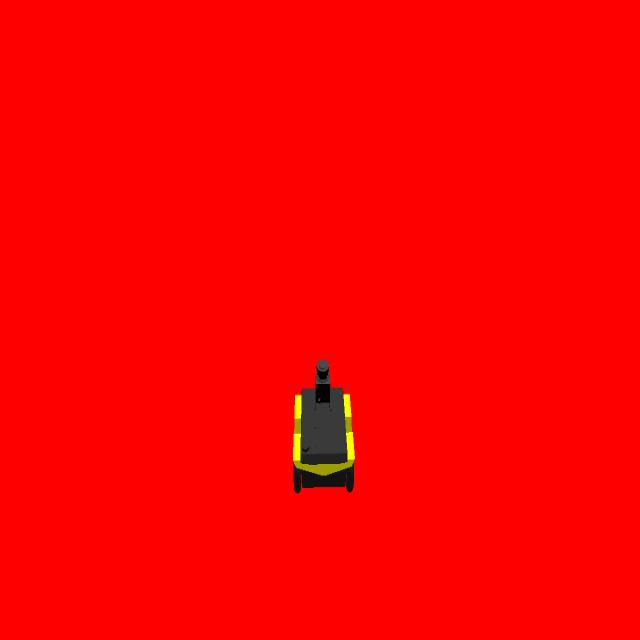jackal: (289, 358, 355, 498)
